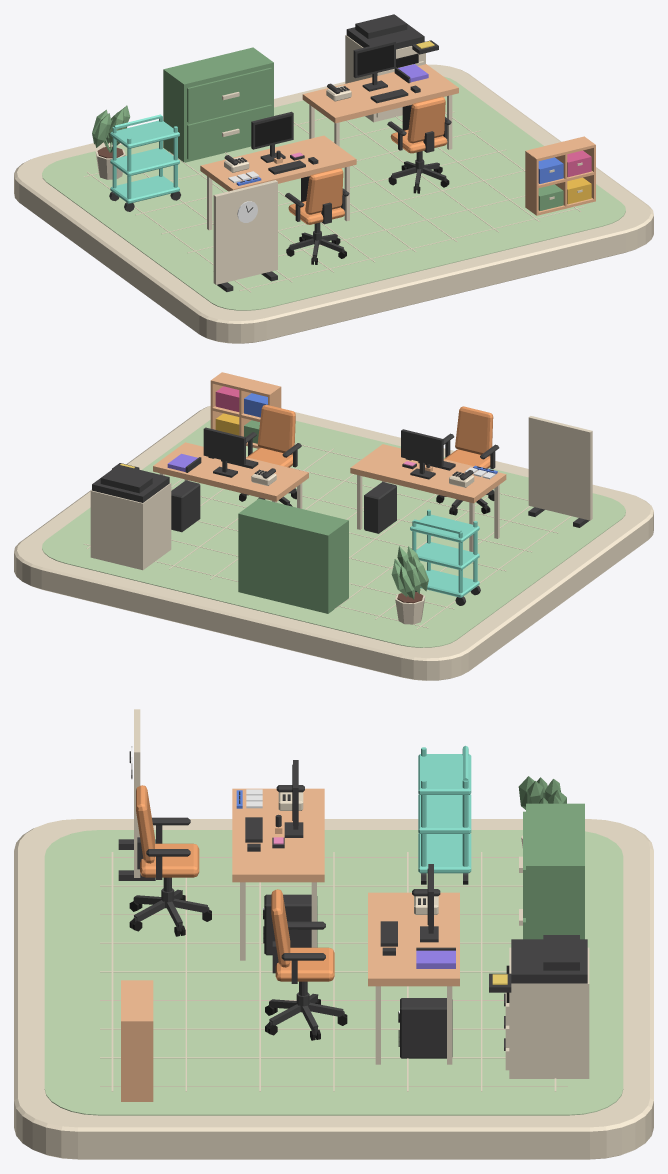
Rendered from room.fbx.
3 renders of one model, top to bottom at view 1: azimuth 30°, elevation 25°; view 2: azimuth 150°, elevation 25°; view 3: azimuth 270°, elevation 25°, orthographic. The views are drawn at different scales.
Parts seen in each view (by area): view 1: COM-02 Floor Surface, COM-01 Rounded Base Direct, Cabinet, Panel, Top.001, Top, Body, COM-04_Chair_blender_direct.001, COM-04_Chair_blender_direct, Pot, Frame.001, Frame (+9 smaller); view 2: COM-02 Floor Surface, COM-01 Rounded Base Direct, Cabinet, Body, Panel, Top, Top.001, COM-04_Chair_blender_direct, COM-04_Chair_blender_direct.001, Pot, Frame, Frame.001 (+7 smaller); view 3: COM-02 Floor Surface, COM-01 Rounded Base Direct, Body, Cabinet, Top, Top.001, COM-04_Chair_blender_direct, COM-04_Chair_blender_direct.001, Tower.001, Cubbies divider.002, Tray.002, Tray.001 (+10 smaller).
Part boxes in pixels (box(x1,y1,x2,y2)): COM-02 Floor Surface: box(42, 76, 625, 310); COM-01 Rounded Base Direct: box(14, 64, 653, 343); Cabinet: box(163, 47, 273, 162); Panel: box(213, 180, 277, 284); Top.001: box(302, 64, 458, 149); Top: box(200, 135, 356, 230); Body: box(345, 14, 438, 122); COM-04_Chair_blender_direct.001: box(387, 96, 451, 193); COM-04_Chair_blender_direct: box(285, 168, 349, 264); Pot: box(92, 105, 130, 179); Frame.001: box(353, 40, 395, 91); Frame: box(251, 111, 293, 162); COM-02 Floor Surface: box(42, 420, 625, 647); COM-01 Rounded Base Direct: box(14, 406, 653, 680); Cabinet: box(238, 498, 348, 613); Body: box(90, 463, 171, 570); Panel: box(528, 416, 592, 520); Top: box(350, 444, 506, 551); Top.001: box(153, 442, 308, 508); COM-04_Chair_blender_direct: box(436, 406, 499, 515); COM-04_Chair_blender_direct.001: box(239, 404, 301, 506); Pot: box(391, 546, 428, 624); Frame: box(401, 429, 443, 479); Frame.001: box(203, 427, 245, 477); COM-02 Floor Surface: box(44, 830, 623, 1115); COM-01 Rounded Base Direct: box(14, 819, 653, 1159); Body: box(489, 935, 589, 1078); Cabinet: box(519, 803, 584, 939); Top: box(232, 788, 324, 960); Top.001: box(368, 892, 459, 1064); COM-04_Chair_blender_direct: box(129, 785, 211, 936); COM-04_Chair_blender_direct.001: box(265, 889, 347, 1040); Tower.001: box(400, 998, 452, 1058); Cubbies divider.002: box(121, 1021, 153, 1101); Tray.002: box(418, 754, 471, 794); Tray.001: box(418, 794, 471, 833).
Size of the model in its own units: 600 by 161 by 520.
